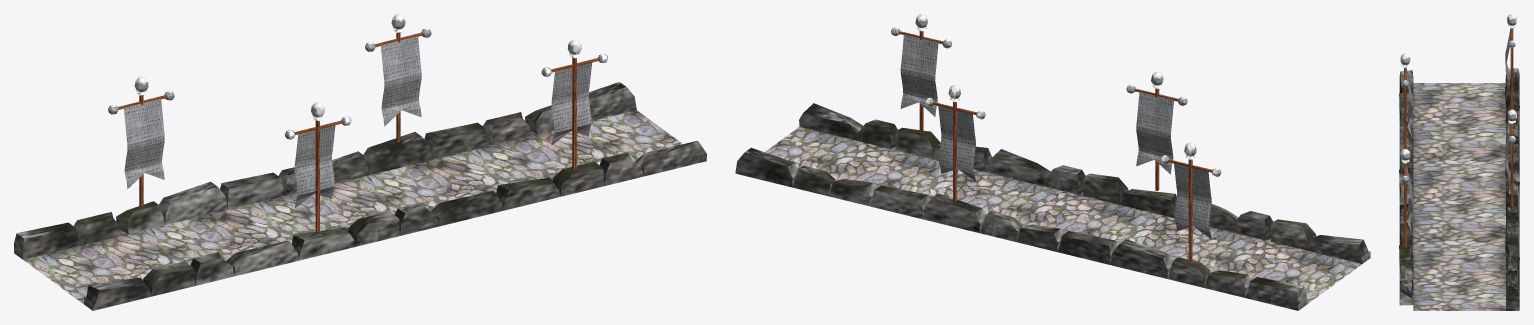
The model's file is roadwithflag.FBX.
The picture shows the model from 3 angles, left to right: view 1: azimuth 30°, elevation 25°; view 2: azimuth 150°, elevation 25°; view 3: azimuth 270°, elevation 25°; orthographic projection. The views are drawn at different scales.
Visible parts, largest first — view 1: NoName21, Road itself, NoName5, NoName1004, NoName1010, NoName1014, NoName1015, NoName1011; view 2: NoName21, Road itself, NoName1010, NoName1014, NoName5, NoName1004, NoName1001, NoName1005; view 3: Road itself, NoName21, NoName1005, NoName1001, NoName1015, NoName1011, NoName5, NoName1004, NoName1010, NoName1014, NoName1009, NoName1013 (+2 smaller).
Boxes of the visible parts, box(x1,y1,x2,y2) form: NoName21: box(14, 82, 706, 310); Road itself: box(23, 110, 682, 303); NoName5: box(124, 99, 164, 188); NoName1004: box(380, 36, 421, 126); NoName1010: box(294, 125, 335, 207); NoName1014: box(551, 62, 591, 145); NoName1015: box(551, 58, 599, 169); NoName1011: box(294, 120, 342, 232); NoName21: box(735, 103, 1370, 310); Road itself: box(765, 127, 1361, 304); NoName1010: box(1136, 92, 1173, 174); NoName1014: box(900, 34, 938, 116); NoName5: box(1174, 163, 1211, 239); NoName1004: box(938, 106, 975, 181); NoName1001: box(1168, 159, 1212, 261); NoName1005: box(932, 102, 976, 202); Road itself: box(1413, 83, 1505, 310); NoName21: box(1399, 68, 1519, 310); NoName1005: box(1510, 123, 1513, 206); NoName1001: box(1510, 28, 1513, 109); NoName1015: box(1404, 163, 1406, 247); NoName1011: box(1404, 67, 1406, 148); NoName5: box(1505, 28, 1510, 99); NoName1004: box(1505, 124, 1510, 194); NoName1010: box(1406, 69, 1411, 138); NoName1014: box(1406, 164, 1411, 233); NoName1009: box(1400, 53, 1410, 67); NoName1013: box(1400, 149, 1410, 163).
Bounding box in the file's own units: 0.6932 × 0.1615 × 0.1551.
Materials: 4 (4 with a texture image).
